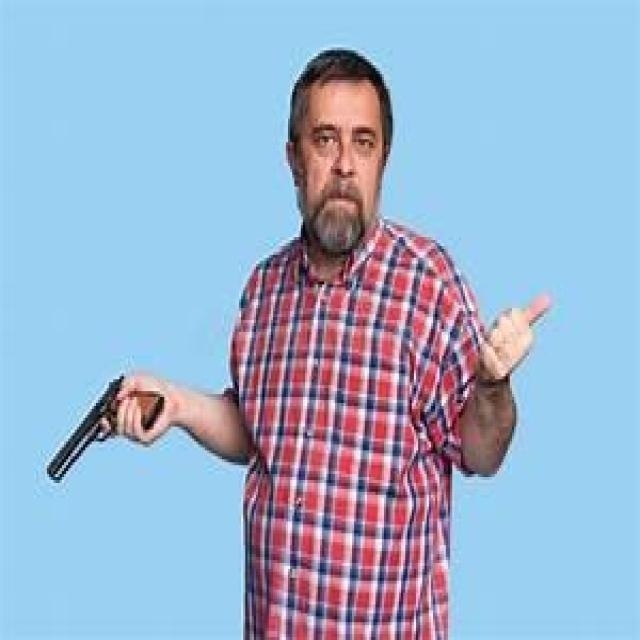Handgun: (44, 362, 170, 488)
